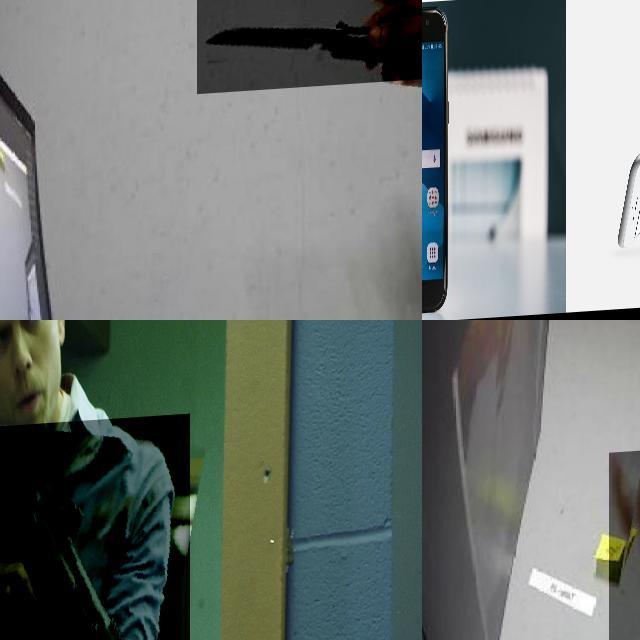-: (197, 0, 422, 97)
gun-knife-thesis - v11 Yolov5 augmented: (0, 418, 190, 640)
